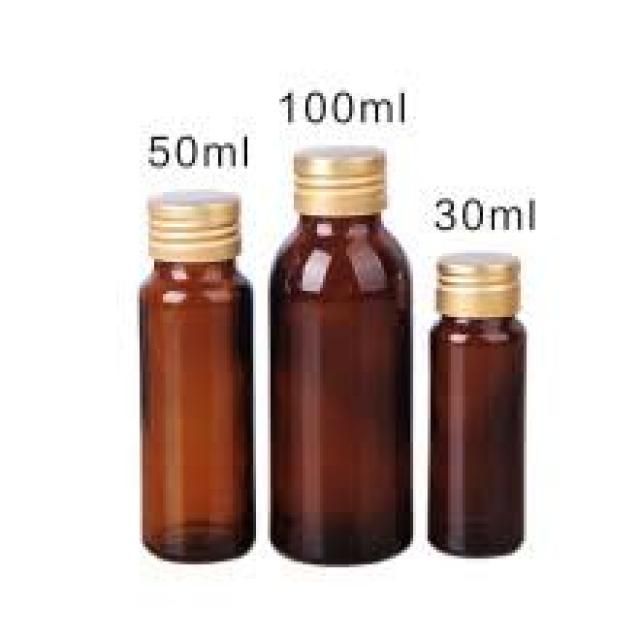glass: (271, 215, 410, 559), (140, 259, 250, 559), (428, 317, 521, 553)
